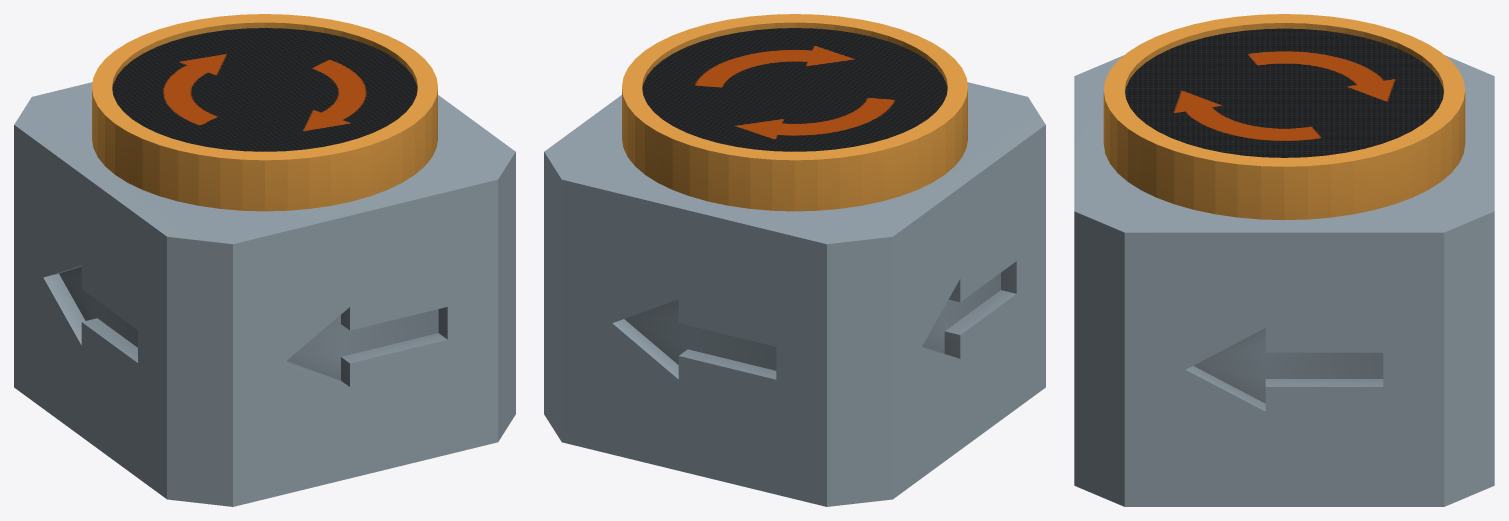
3 views of the same model, side by side, from view 1: azimuth 30°, elevation 25°; view 2: azimuth 150°, elevation 25°; view 3: azimuth 270°, elevation 25° (orthographic). The views are drawn at different scales.
Visible parts, largest first — view 1: Part_Base, Part_Disk, Part_Orange; view 2: Part_Base, Part_Disk, Part_Orange; view 3: Part_Base, Part_Disk, Part_Orange.
Boxes of the visible parts, x1,y1,x2,y2 form: Part_Base: (14,82,515,506); Part_Disk: (112,28,417,151); Part_Orange: (92,14,437,211); Part_Base: (544,82,1045,506); Part_Disk: (642,28,947,151); Part_Orange: (622,14,967,211); Part_Base: (1074,55,1494,506); Part_Disk: (1125,28,1443,157); Part_Orange: (1103,14,1465,220).
Size of the model in its own units: 1 by 0.86 by 1.
4 materials, 1 textured.
